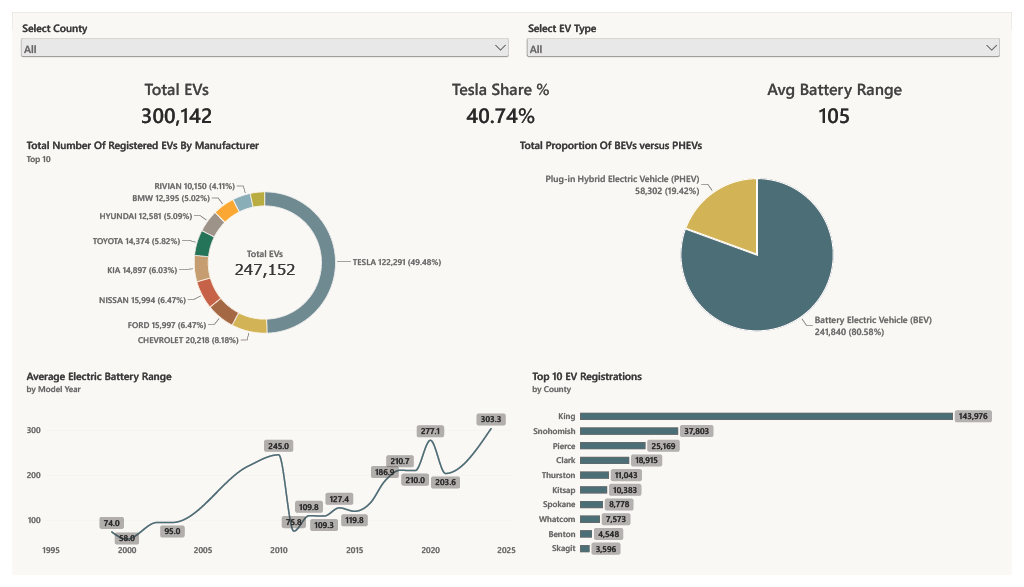

This screenshot's page, from the dashboard's own definition file:
{"tool":"powerbi","page":{"name":"Dashboard","canvas":[1920,1080],"ordinal":0},"visuals":[{"type":"donutChart","title":"Total Number Of Registered EVs By Manufacturer","fields":{"Category":["cleaned_ev_data.Make"],"Y":["cleaned_ev_data.Total Vehicles"]},"box":[10.8,226.8,948.2,442.8],"z":0},{"type":"pieChart","title":"Total Proportion Of BEVs versus PHEVs","fields":{"Category":["cleaned_ev_data.Electric Vehicle Type"],"Series":["cleaned_ev_data.Electric Vehicle Type"],"Y":["cleaned_ev_data.Total Vehicles"]},"box":[959,226.8,943.9,442.8],"z":1000},{"type":"lineChart","title":"Average Electric Battery Range","fields":{"Category":["cleaned_ev_data.Model Year"],"Y":["cleaned_ev_data.Avg Electric Range"]},"box":[10.8,669.6,972,395.3],"z":2000},{"type":"clusteredBarChart","title":"Top 10 EV Registrations","fields":{"Category":["cleaned_ev_data.County"],"Y":["cleaned_ev_data.Total Vehicles"]},"box":[982.8,669.6,920.2,395.3],"z":4000},{"type":"cardVisual","fields":{"Data":["cleaned_ev_data.Total Vehicles"]},"box":[10.8,123.1,609.1,103.7],"z":5000},{"type":"cardVisual","fields":{"Data":["cleaned_ev_data.Tesla Share %"]},"box":[635,123.1,607,103.7],"z":6000},{"type":"cardVisual","fields":{"Data":["cleaned_ev_data.Avg Electric Range"]},"box":[1257.1,123.1,645.8,103.7],"z":7000},{"type":"slicer","fields":{"Values":["cleaned_ev_data.County"]},"box":[10.8,15.1,948.2,88.6],"z":8000},{"type":"slicer","fields":{"Values":["cleaned_ev_data.Electric Vehicle Type"]},"box":[982.8,15.1,920.2,88.6],"z":9000}]}

Visuals, with their boxes in screenshot pixels (x1, y1, x2, y2), scaled from the page's 1920x1080 canvas onto the 1024x587 screenshot:
"Total Number Of Registered EVs By Manufacturer" donutChart: BBox(6, 123, 511, 364)
"Total Proportion Of BEVs versus PHEVs" pieChart: BBox(511, 123, 1015, 364)
"Average Electric Battery Range" lineChart: BBox(6, 364, 524, 579)
"Top 10 EV Registrations" clusteredBarChart: BBox(524, 364, 1015, 579)
cardVisual - cleaned_ev_data.Total Vehicles: BBox(6, 67, 331, 123)
cardVisual - cleaned_ev_data.Tesla Share %: BBox(339, 67, 662, 123)
cardVisual - cleaned_ev_data.Avg Electric Range: BBox(670, 67, 1015, 123)
slicer - cleaned_ev_data.County: BBox(6, 8, 511, 56)
slicer - cleaned_ev_data.Electric Vehicle Type: BBox(524, 8, 1015, 56)
